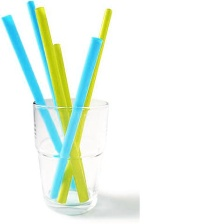drinking_straw: (47, 32, 103, 203)
glass: (28, 96, 112, 218)
